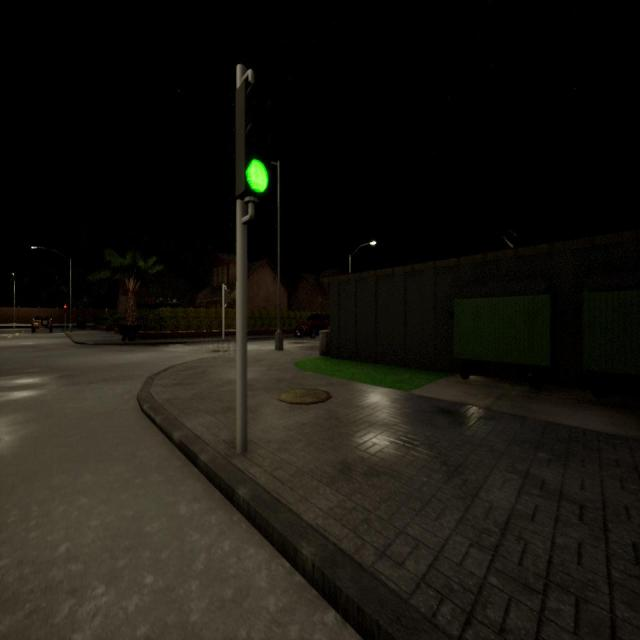Vehicle: (290, 308, 332, 340), (32, 312, 52, 334)
traffic_light: (235, 80, 269, 200), (224, 289, 230, 303), (64, 305, 67, 314)
